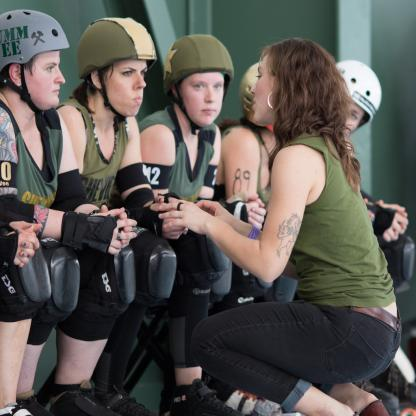Helmet: (77, 17, 156, 134), (163, 34, 235, 136), (2, 9, 67, 116), (336, 58, 384, 130), (238, 61, 258, 123)
